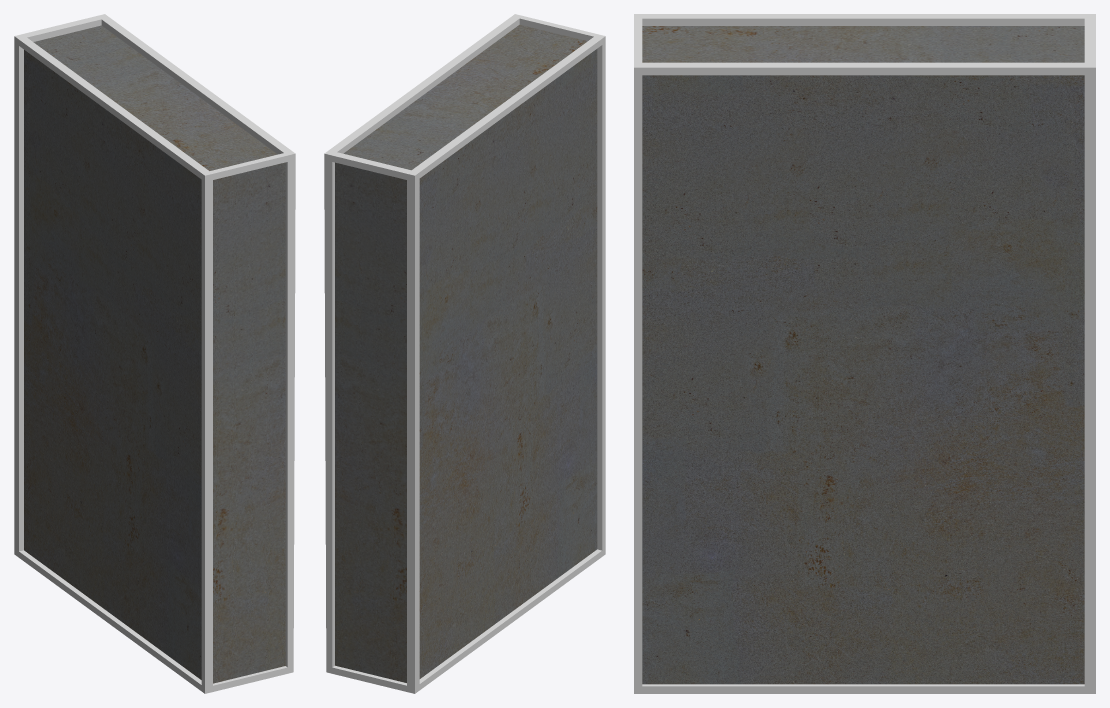
File: Wall_05.fbx
3 renders of one model, left to right at view 1: azimuth 30°, elevation 25°; view 2: azimuth 150°, elevation 25°; view 3: azimuth 270°, elevation 25°, orthographic. The views are drawn at different scales.
Visible parts, largest first — view 1: wall, glow; view 2: wall, glow; view 3: wall, glow.
Part boxes in pixels (x1,y1,x2,y2): wall: [24, 25, 285, 683]; glow: [14, 14, 295, 693]; wall: [335, 24, 597, 682]; glow: [324, 14, 605, 693]; wall: [642, 26, 1084, 684]; glow: [634, 14, 1095, 693].
Size of the model in its own units: 820 by 1229 by 225.
1 material, 1 textured.
